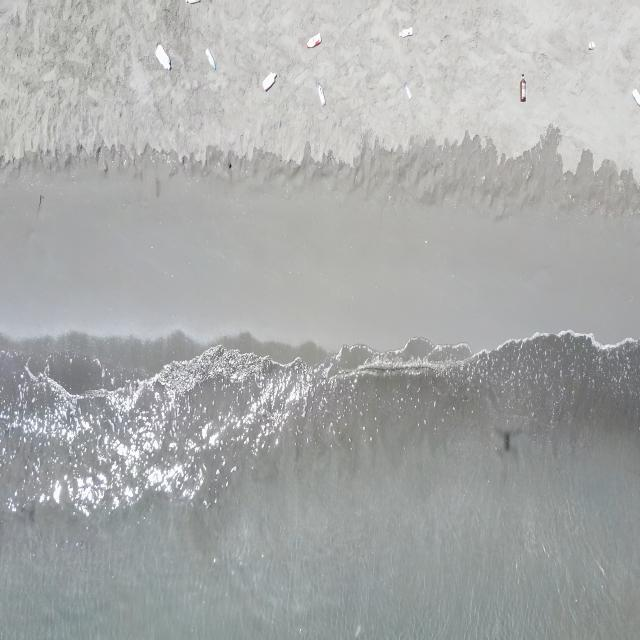plastic-bottle: (155, 44, 172, 71), (204, 46, 217, 72), (262, 70, 277, 92), (306, 33, 322, 51), (520, 73, 528, 105), (317, 81, 326, 107), (403, 80, 413, 102), (398, 26, 413, 39), (632, 87, 640, 107)
